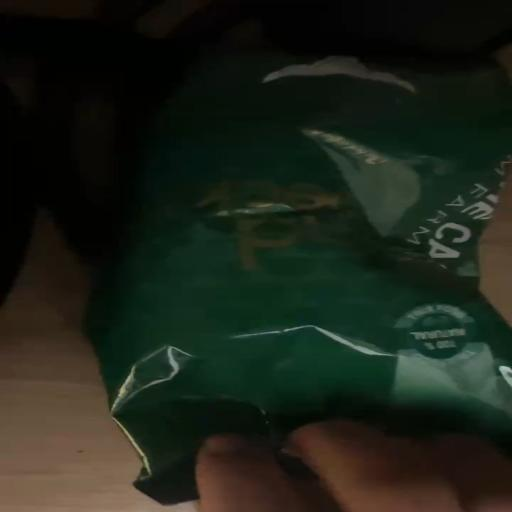cafe_xay: (88, 52, 511, 504)
